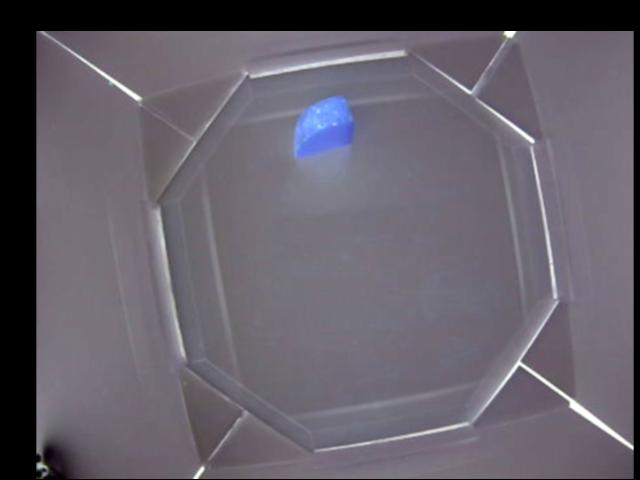Potato: (294, 98, 355, 157)
